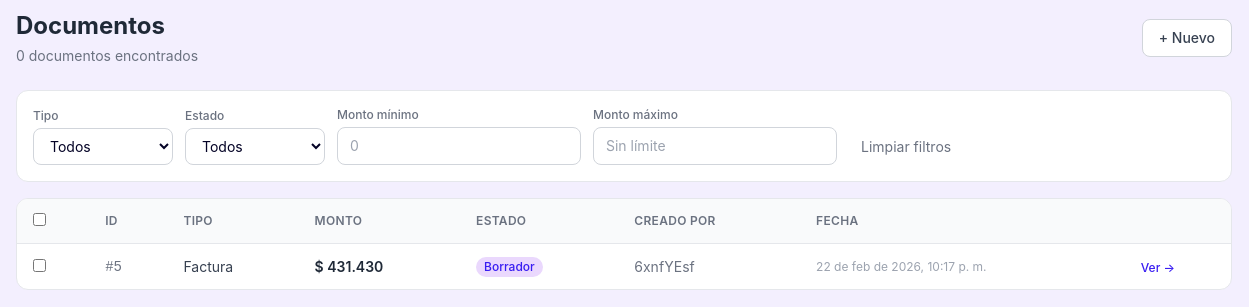
Test: DocumentsPage › selection and batch › toggles a document off when clicked again
The width and height of the screenshot is (1249, 307).
Click the 2nd checkbox: click(40, 265) [33, 258, 46, 272]
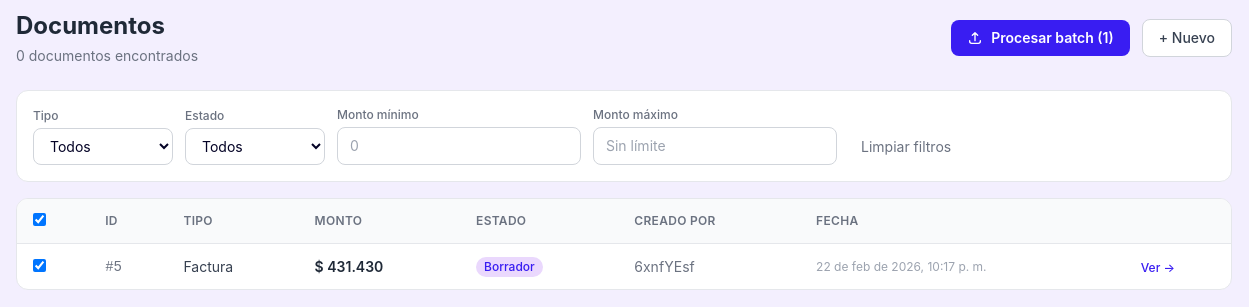
Now the button "Procesar batch (1)" is shown, box [951, 20, 1130, 56]
Click the 2nd checkbox: click(40, 265) [33, 258, 46, 272]
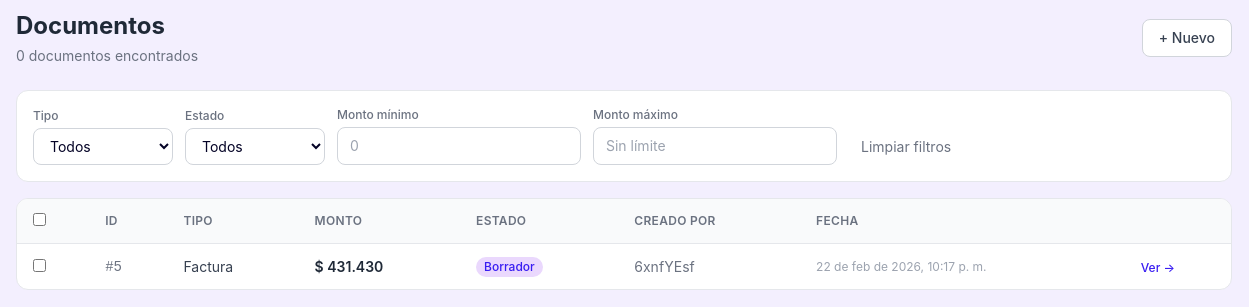
Now the button "Procesar batch" is gone
